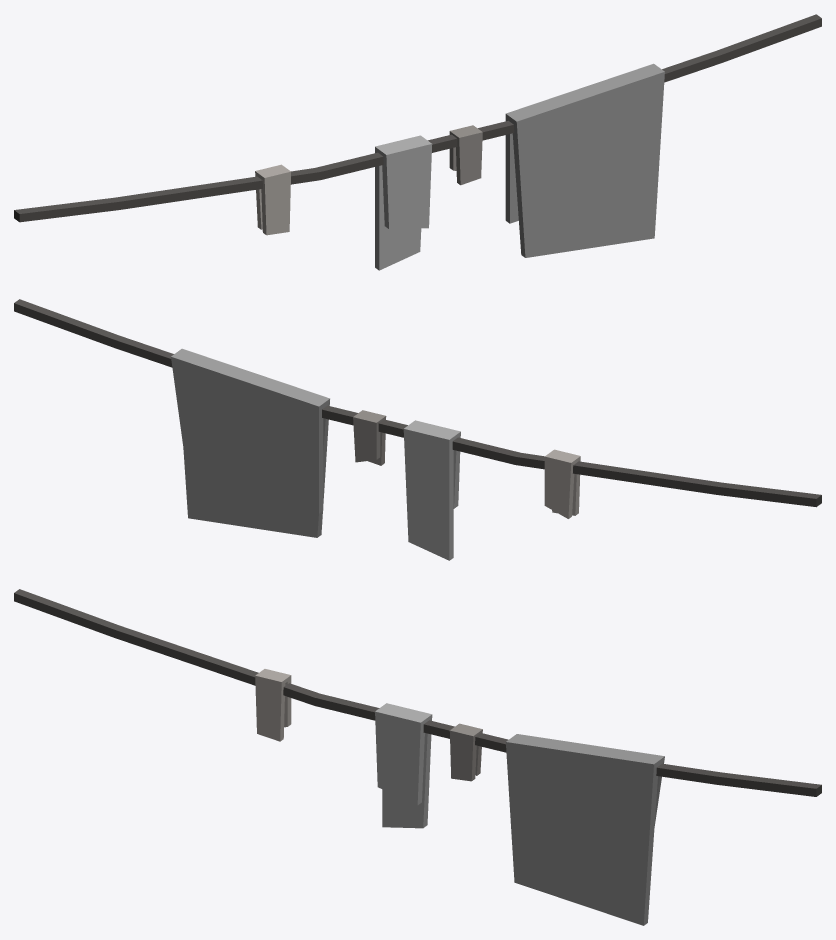
File: AI_Prop_Makeshift_WashingLine.fbx
The picture shows the model from 3 angles, top to bottom: view 1: azimuth 30°, elevation 25°; view 2: azimuth 150°, elevation 25°; view 3: azimuth 330°, elevation 25°; orthographic projection.
Parts seen in each view (by area): view 1: AI_Prop_Makeshift_WashingLine; view 2: AI_Prop_Makeshift_WashingLine; view 3: AI_Prop_Makeshift_WashingLine.
Part boxes in pixels (left/top/right/bottom): AI_Prop_Makeshift_WashingLine: left=14, top=14, right=821, bottom=270; AI_Prop_Makeshift_WashingLine: left=14, top=299, right=821, bottom=560; AI_Prop_Makeshift_WashingLine: left=14, top=589, right=821, bottom=925.
Size of the model in its own units: 6.35 by 1.34 by 0.1578.
